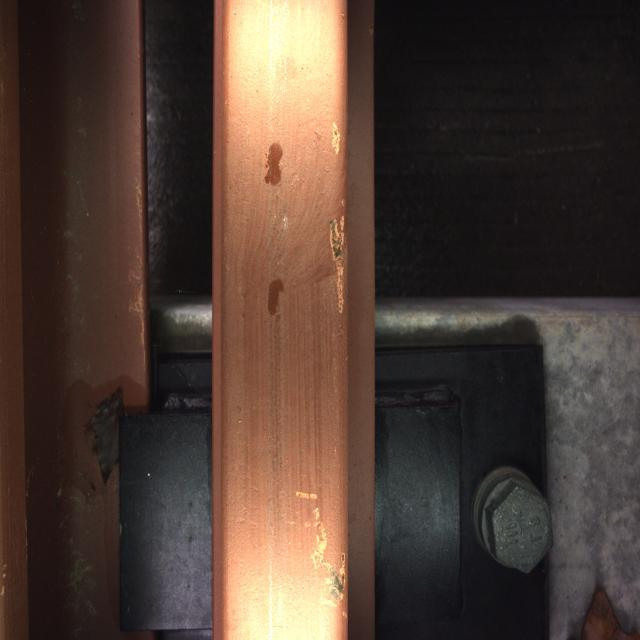crack: (68, 353, 144, 515), (321, 182, 361, 350), (301, 518, 360, 624)
